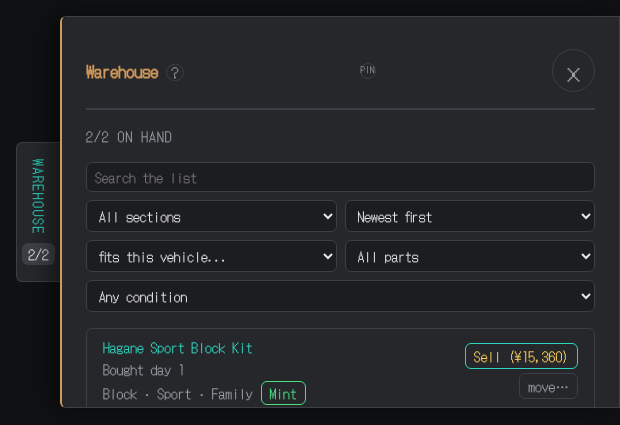
Test: WarehouseDrawer › browse mode › lists every owned part, searchable by name
This screenshot has width=620, height=425.
Type "Stroker Kit" into the search field with test id "warehouse-search".
click(340, 177); type("Stroker Kit")  # box [86,162,595,192]
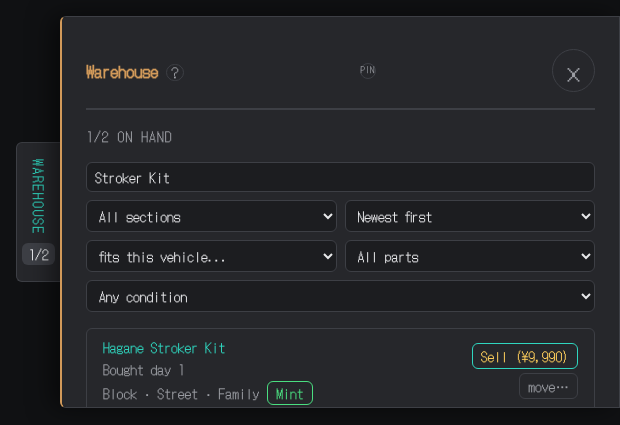
Expected: the number of list items is 1, [86,328,595,408]
Expected: the text "Stroker Kit" is shown, [103,337,225,357]
